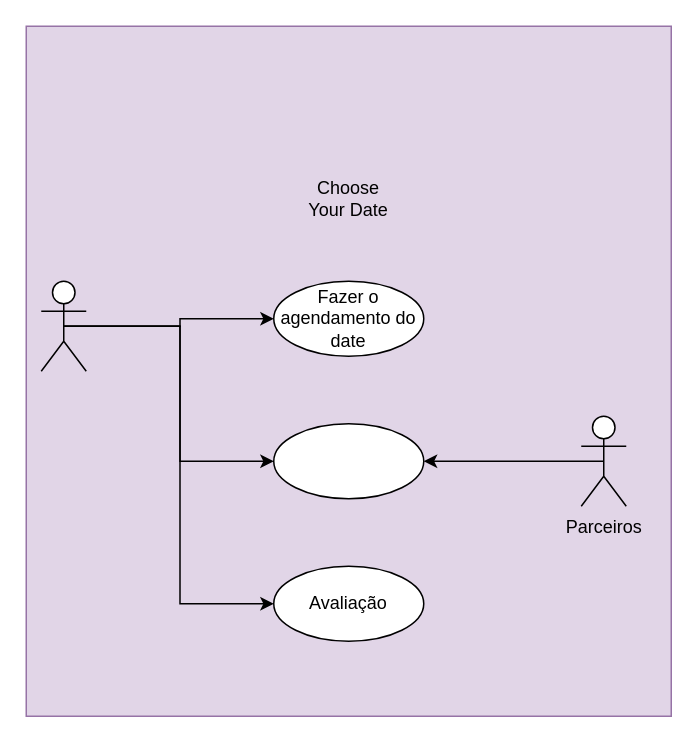
The diagram is 698 pixels wide and 743 high, and some of its shapes have lost their labels. Each missing label, with the centre of its shape:
"Cliente" belongs at point (63, 325).
"Consulta Agenda" belongs at point (348, 460).
